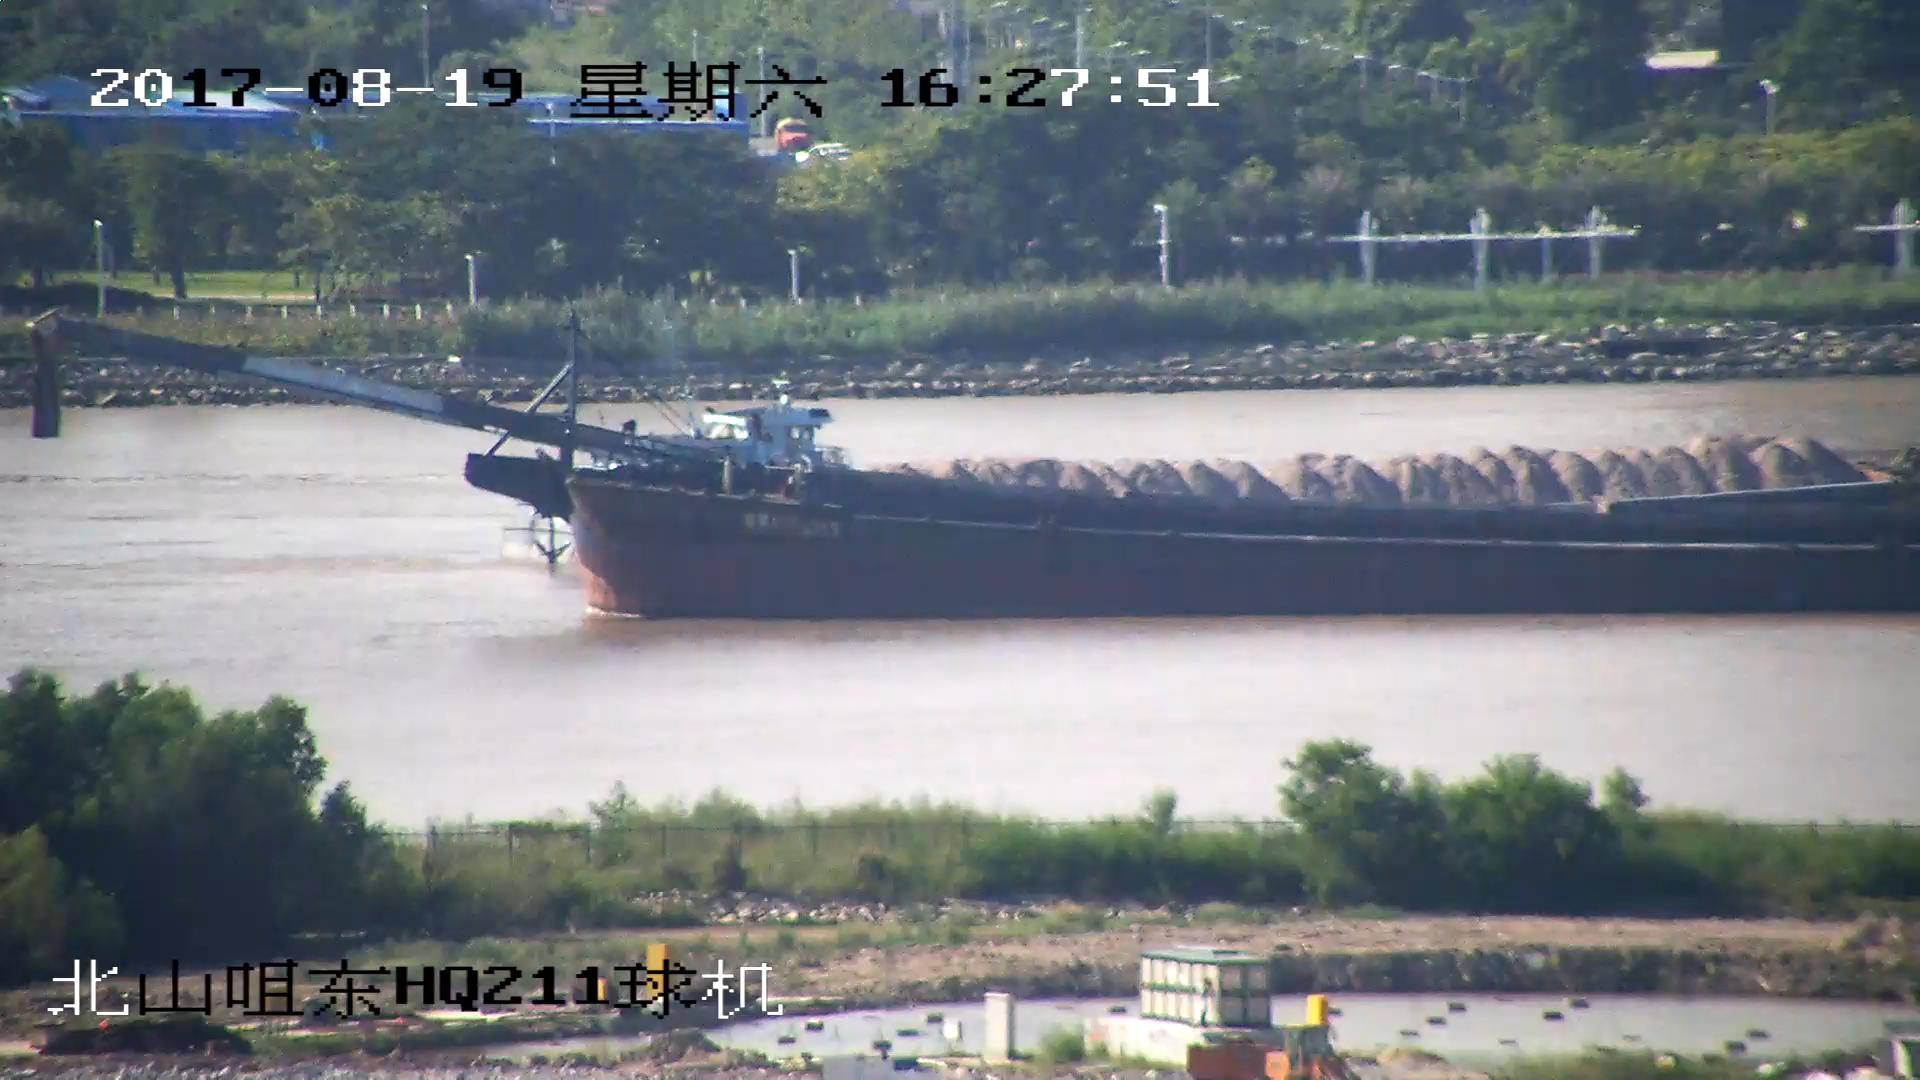bulk cargo carrier: (25, 318, 1920, 620)
ore carrier: (446, 330, 1920, 527)
